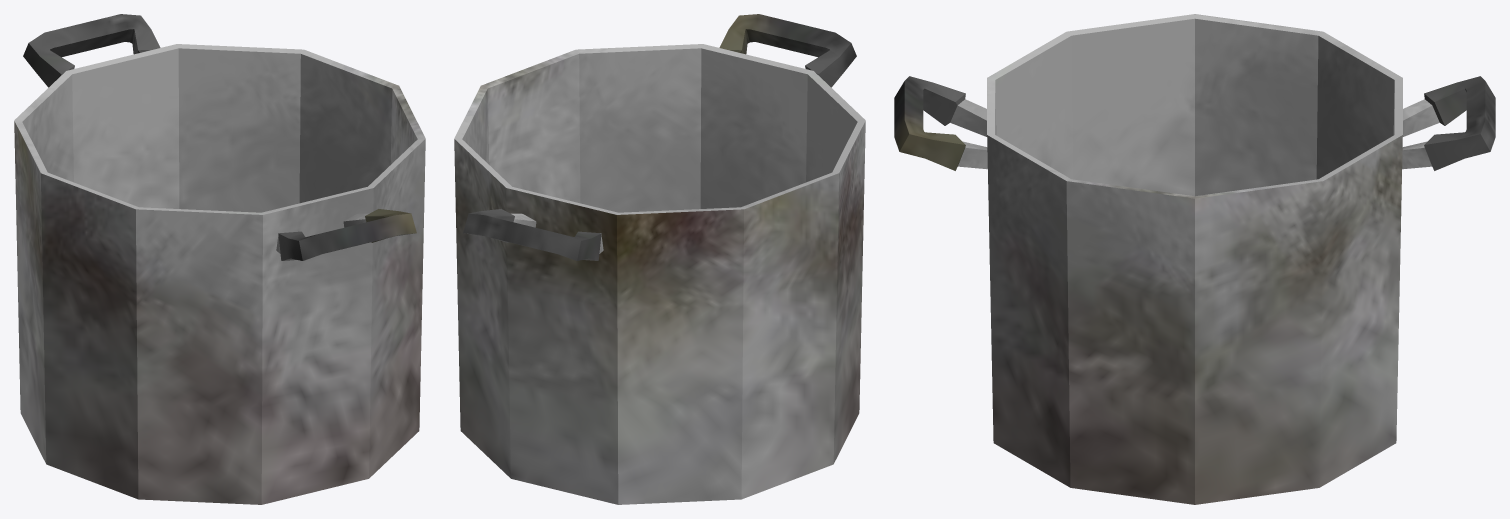
Rendered from saucepan-tall.glb.
The picture shows the model from 3 angles, left to right: view 1: azimuth 30°, elevation 25°; view 2: azimuth 150°, elevation 25°; view 3: azimuth 270°, elevation 25°; orthographic projection. The views are drawn at different scales.
Visible parts, largest first — view 1: saucepan-tall; view 2: saucepan-tall; view 3: saucepan-tall.
Part boxes in pixels (<box>): saucepan-tall: <box>14,14,425,504</box>; saucepan-tall: <box>454,14,865,504</box>; saucepan-tall: <box>894,14,1495,504</box>.
Bounding box in the file's own units: 0.2544 × 0.2023 × 0.35.
1 material, 1 textured.
